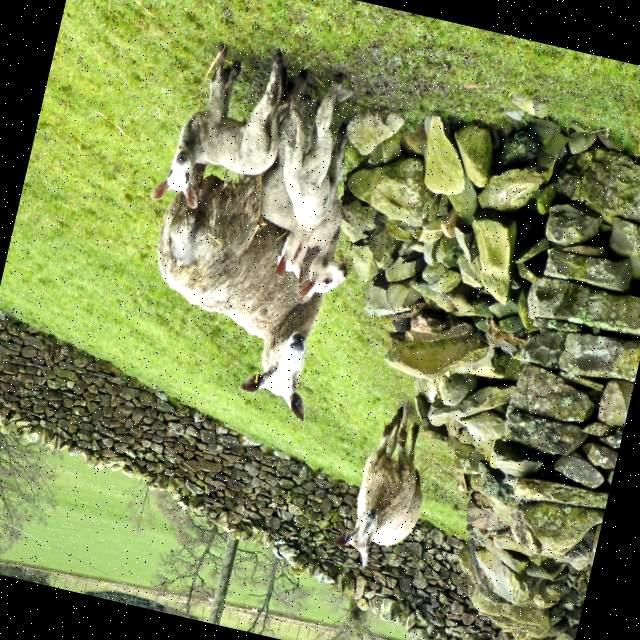sheep: (158, 167, 321, 421), (155, 42, 295, 205), (261, 121, 347, 297), (343, 407, 423, 566), (282, 83, 340, 278)
